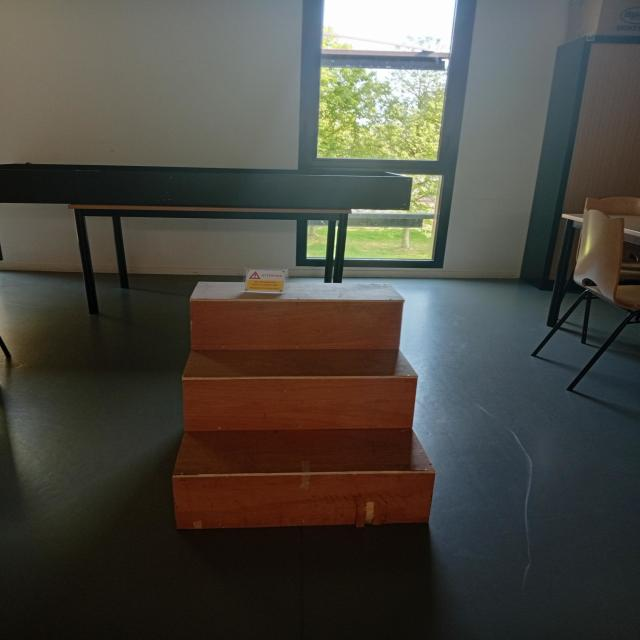Stairs: (149, 295, 468, 544)
